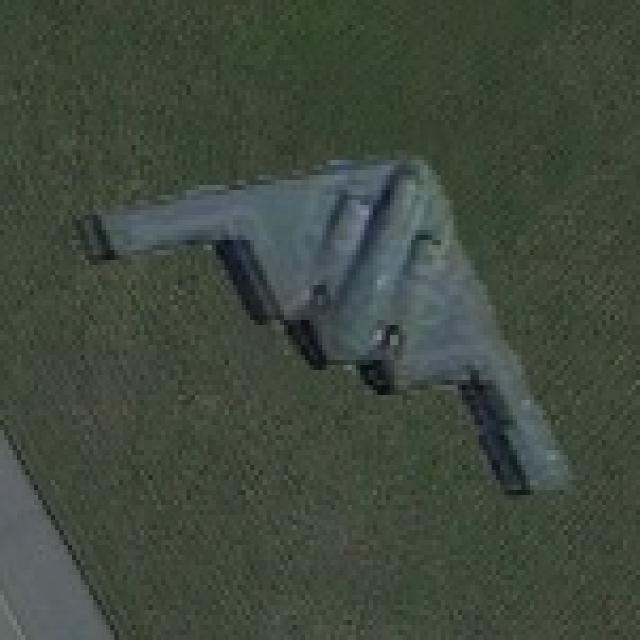B-2_TopDown: (68, 135, 580, 510)
